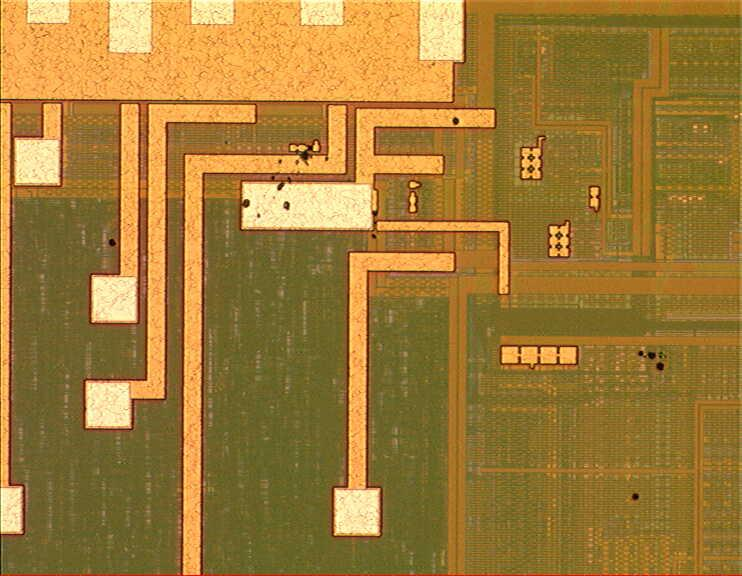PO CONTAMINATION: (105, 116, 676, 505)
